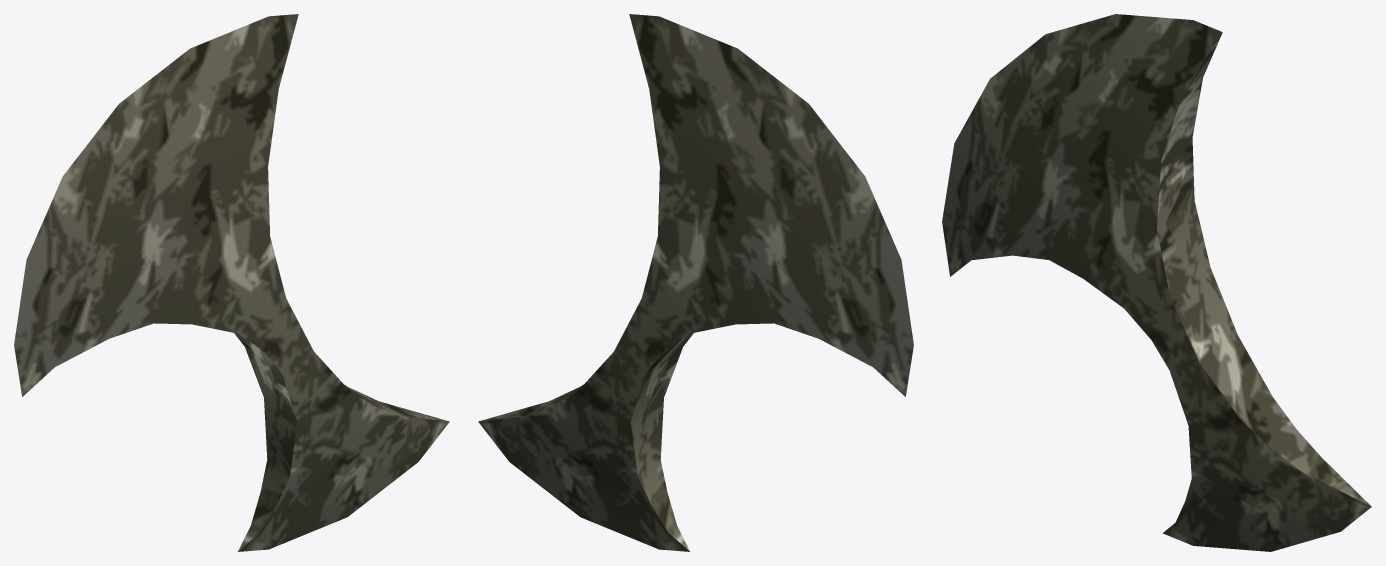
Rendered from Medallion05.fbx.
The picture shows the model from 3 angles, left to right: view 1: azimuth 30°, elevation 25°; view 2: azimuth 150°, elevation 25°; view 3: azimuth 330°, elevation 25°; orthographic projection.
Visible parts, largest first — view 1: Medalion05; view 2: Medalion05; view 3: Medalion05.
Part boxes in pixels (left/top/right/bottom): Medalion05: left=14, top=14, right=449, bottom=551; Medalion05: left=478, top=14, right=913, bottom=551; Medalion05: left=942, top=14, right=1371, bottom=551.
Bounding box in the file's own units: 0.7727 × 0.9031 × 0.1256.
